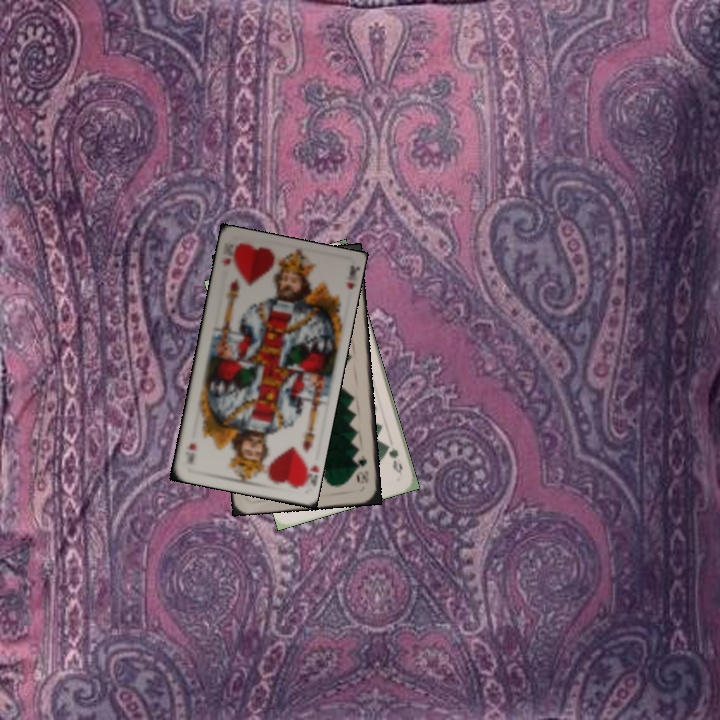G10: (354, 451, 372, 486)
G9: (381, 440, 405, 475)
HK: (217, 240, 241, 271), (296, 458, 319, 489)
